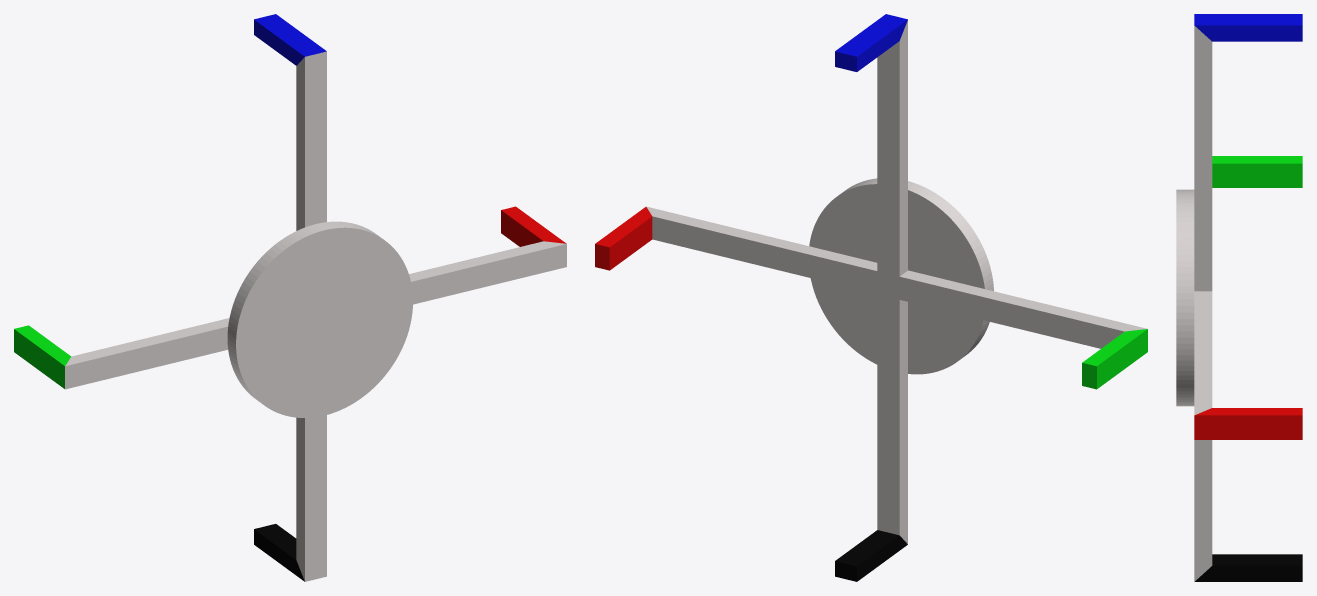
The model's file is bird01.dae.
3 renders of one model, left to right at view 1: azimuth 30°, elevation 25°; view 2: azimuth 150°, elevation 25°; view 3: azimuth 270°, elevation 25°, orthographic. The views are drawn at different scales.
Visible parts, largest first — view 1: Bird01; view 2: Bird01; view 3: Bird01.
Part boxes in pixels (left/top/right/bottom): Bird01: left=14, top=14, right=566, bottom=581; Bird01: left=595, top=14, right=1147, bottom=581; Bird01: left=1176, top=14, right=1302, bottom=581.
Bounding box in the file's own units: 340 × 70 × 340.
